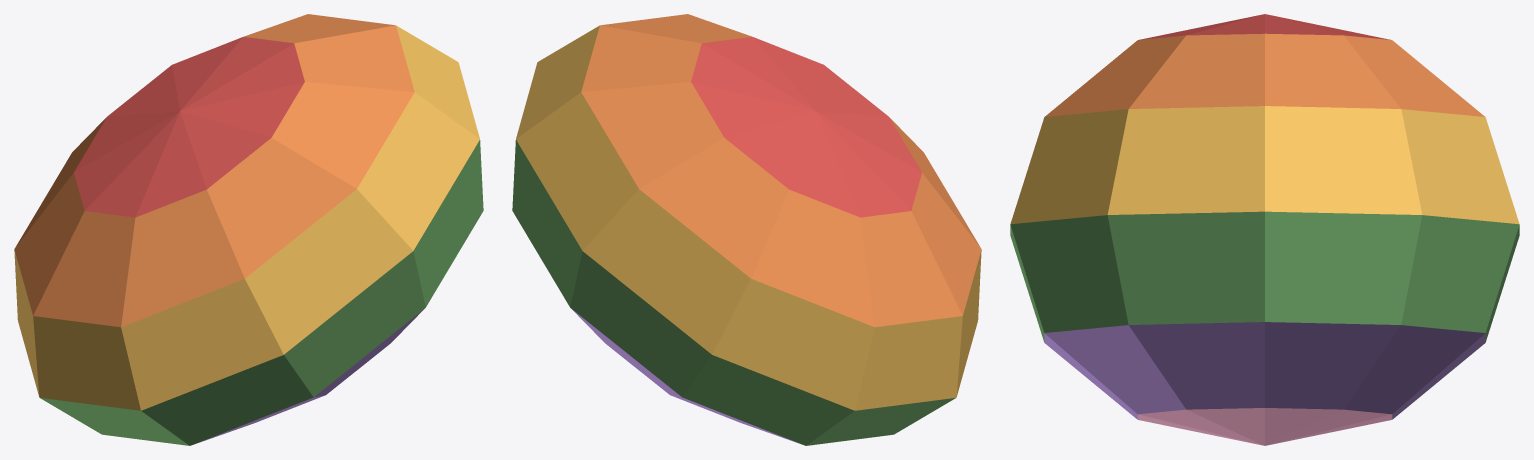
File: deco_rainbow_pebble.obj
3 renders of one model, left to right at view 1: azimuth 30°, elevation 25°; view 2: azimuth 150°, elevation 25°; view 3: azimuth 270°, elevation 25°, orthographic. The views are drawn at different scales.
Visible parts, largest first — view 1: deco_rainbow_pebble; view 2: deco_rainbow_pebble; view 3: deco_rainbow_pebble.
Part boxes in pixels (x1=…): deco_rainbow_pebble: x1=14, y1=14, x2=483, y2=445; deco_rainbow_pebble: x1=512, y1=14, x2=981, y2=445; deco_rainbow_pebble: x1=1010, y1=14, x2=1519, y2=445.
Bounding box in the file's own units: 0.0309 × 0.024 × 0.0247.
Materials: 1 (1 with a texture image).
